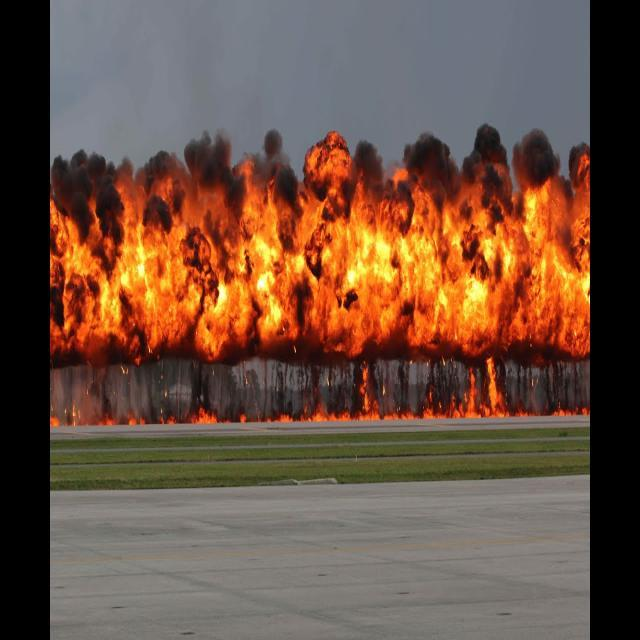fire: (60, 177, 594, 417)
